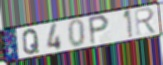0: (67, 19, 88, 49)
1: (122, 8, 134, 39)
4: (46, 22, 64, 53)
P: (87, 14, 111, 47)
Q: (22, 28, 41, 56)
R: (133, 6, 158, 37)
